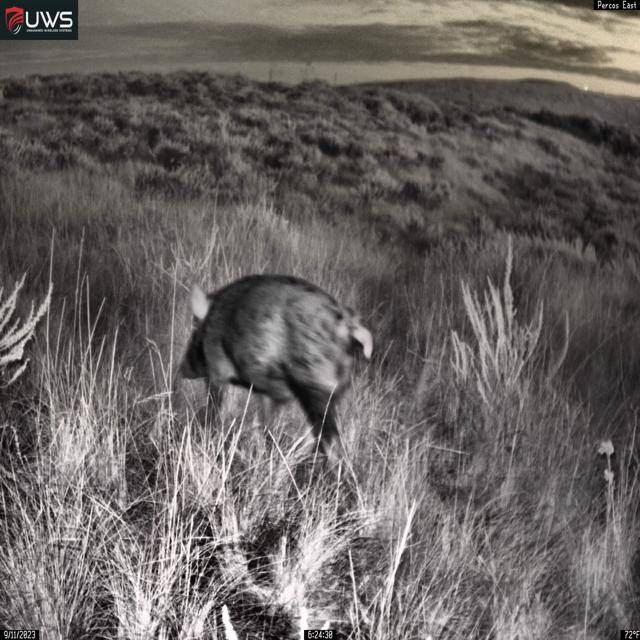pig: (177, 272, 374, 482)
